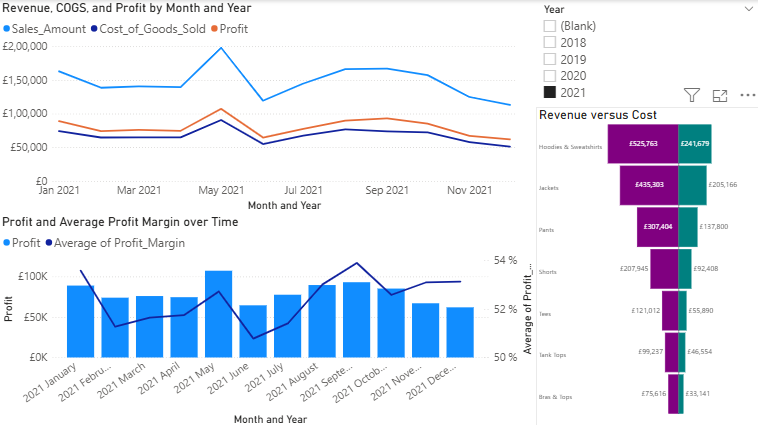

This screenshot's page, from the dashboard's own definition file:
{"tool":"powerbi","page":{"name":"Revenue and Profit","canvas":[1280,720],"ordinal":4},"visuals":[{"type":"slicer","fields":{"Values":["Orders.Order_Date.Variation.Date Hierarchy.Year"]},"box":[902.3,0,378.2,180],"z":0},{"type":"lineChart","title":"Revenue, COGS, and Profit by Month and Year","fields":{"Y":["Sum(Orders.Sales_Amount)","Sum(Orders.Cost_of_Goods_Sold)","Sum(Orders.Profit)"],"Category":["Orders.Order_Date.Variation.Date Hierarchy.Year","Orders.Order_Date.Variation.Date Hierarchy.Month"]},"box":[0,0,902.3,360],"z":1000},{"type":"lineClusteredColumnComboChart","title":"Profit and Average Profit Margin over Time","fields":{"Y":["Sum(Orders.Profit)"],"Category":["Orders.Order_Date.Variation.Date Hierarchy.Year","Orders.Order_Date.Variation.Date Hierarchy.Month"],"Y2":["Avg(Orders.Profit_Margin)"]},"box":[0,360,902.3,360],"z":2000},{"type":"TornadoChart1452517688218","title":"Revenue versus Cost","fields":{"Category":["Products.Product_Category"],"Values":["Sum(Orders.Sales_Amount)","Sum(Orders.Cost_of_Goods_Sold)"]},"box":[902.3,180,378.2,540],"z":3000}]}

Visuals, with their boxes in screenshot pixels (x1, y1, x2, y2), scaled from the page's 1280x720 canvas onto the 758x425 screenshot:
slicer - Orders.Order_Date.Variation.Date Hierarchy.Year: [left=534, top=0, right=757, bottom=106]
"Revenue, COGS, and Profit by Month and Year" lineChart: [left=0, top=0, right=534, bottom=212]
"Profit and Average Profit Margin over Time" lineClusteredColumnComboChart: [left=0, top=212, right=534, bottom=424]
"Revenue versus Cost" TornadoChart1452517688218: [left=534, top=106, right=757, bottom=424]
